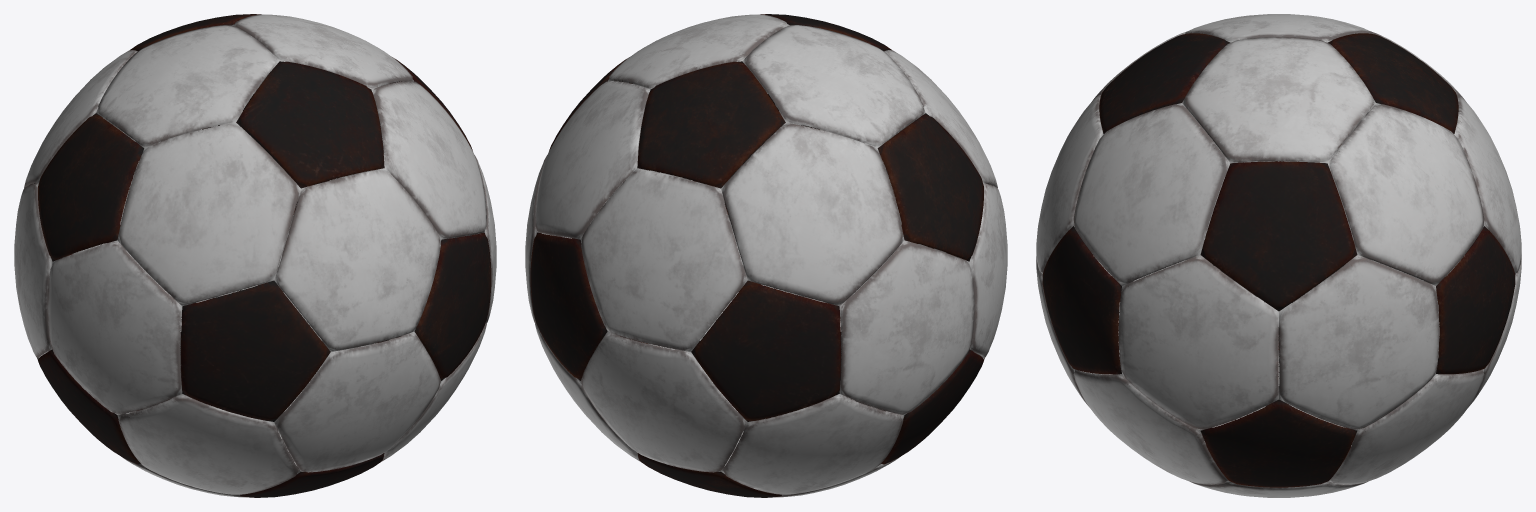
The picture shows the model from 3 angles, left to right: view 1: azimuth 30°, elevation 25°; view 2: azimuth 150°, elevation 25°; view 3: azimuth 270°, elevation 25°; orthographic projection.
Visible parts, largest first — view 1: Hedra2_Mesh; view 2: Hedra2_Mesh; view 3: Hedra2_Mesh.
Boxes of the visible parts, bbox=[...] form: Hedra2_Mesh: bbox=[14, 14, 496, 497]; Hedra2_Mesh: bbox=[525, 14, 1007, 497]; Hedra2_Mesh: bbox=[1036, 14, 1521, 497].
Size of the model in its own units: 2.84 by 2.84 by 2.84.
1 material, 1 textured.
